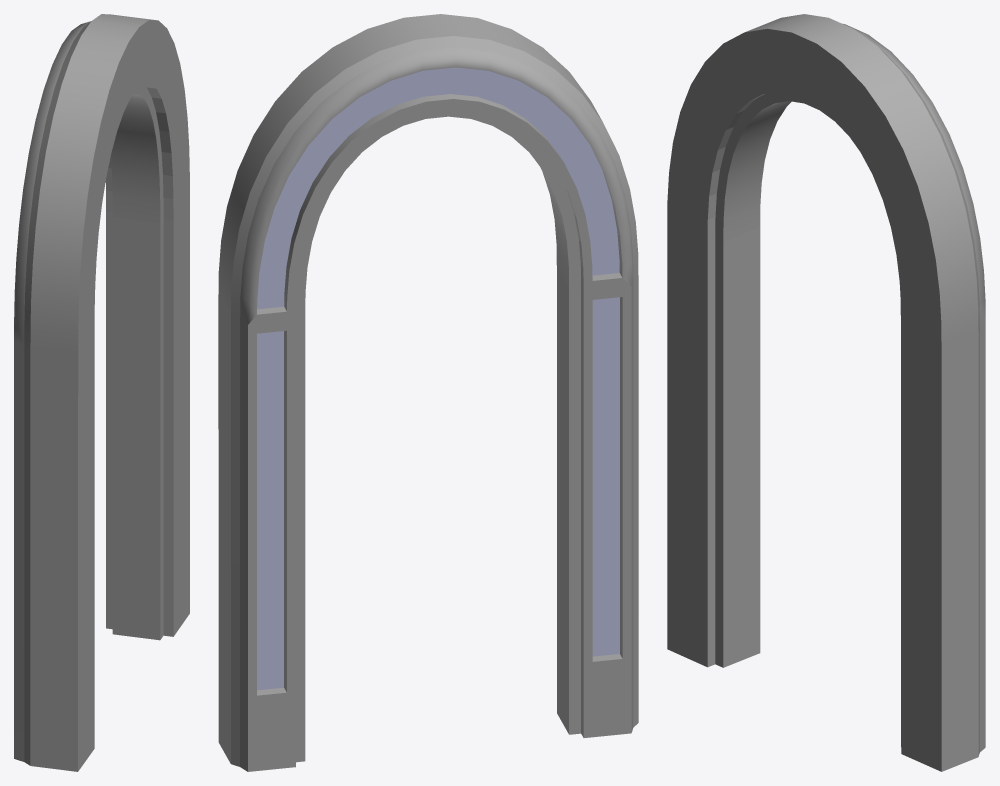
Rendered from entrancearch.fbx.
3 renders of one model, left to right at view 1: azimuth 30°, elevation 25°; view 2: azimuth 150°, elevation 25°; view 3: azimuth 270°, elevation 25°, orthographic. The views are drawn at different scales.
Visible parts, largest first — view 1: arch3; view 2: arch3; view 3: arch3.
Boxes of the visible parts, bbox=[...] form: arch3: bbox=[14, 14, 189, 771]; arch3: bbox=[218, 14, 638, 771]; arch3: bbox=[667, 14, 985, 771].
Bounding box in the file's own units: 3.6 × 8.08 × 3.47.
